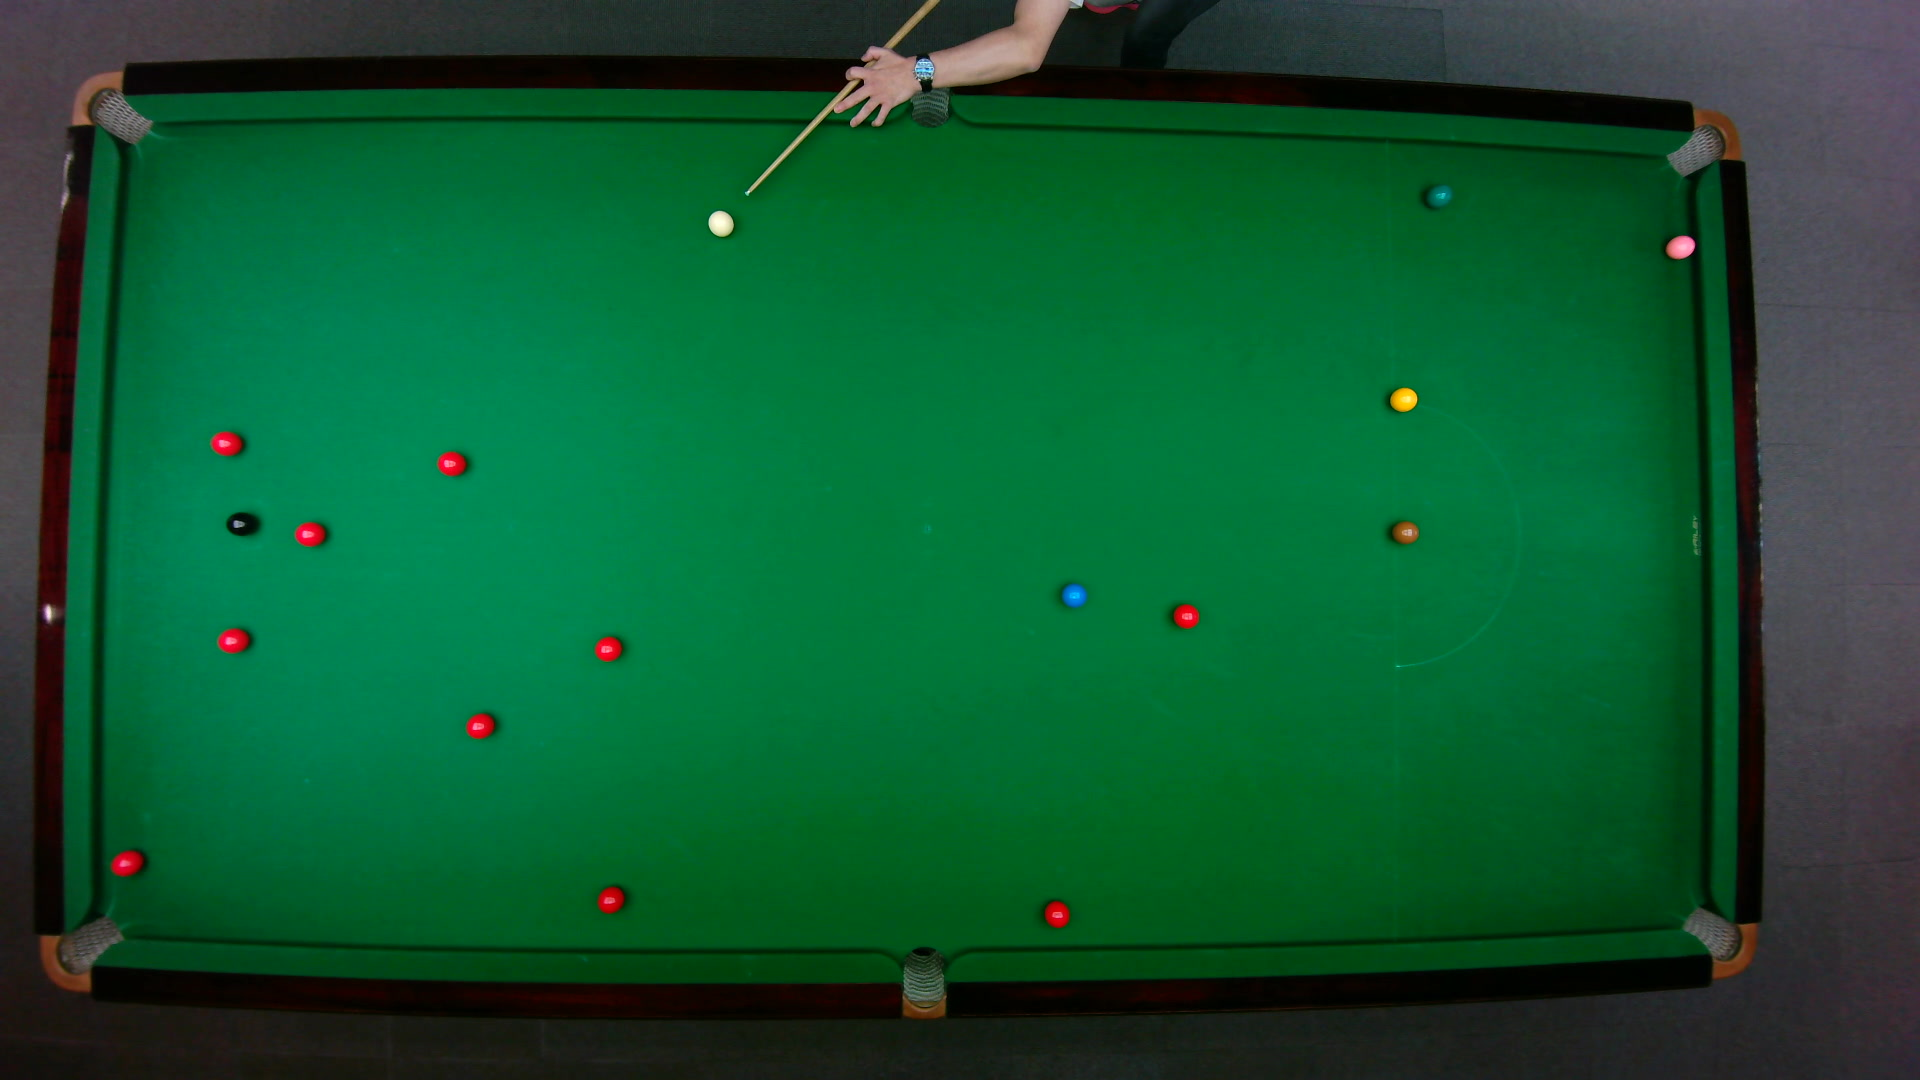bag: (37, 914, 125, 992), (69, 69, 153, 145), (1677, 905, 1756, 978), (1663, 107, 1741, 177), (899, 943, 944, 1021)
black: (223, 509, 257, 535)
blue: (1059, 582, 1087, 608)
brown: (1389, 520, 1419, 545)
cue: (742, 0, 944, 199)
green: (1423, 182, 1453, 208)
pink: (1663, 232, 1697, 260)
red: (108, 848, 144, 877), (214, 625, 251, 653), (208, 429, 243, 456), (595, 884, 625, 914), (293, 520, 326, 547), (435, 448, 467, 476), (464, 711, 495, 738), (592, 634, 622, 662), (1043, 899, 1071, 928), (1171, 603, 1200, 629)
white: (705, 208, 735, 237)
yellow: (1387, 385, 1418, 411)
zone: (1390, 401, 1520, 667)
